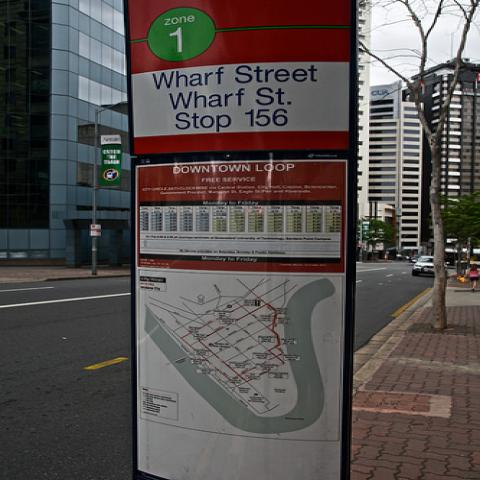car: (411, 256, 435, 276)
truck: (411, 256, 435, 276), (396, 251, 412, 260)
